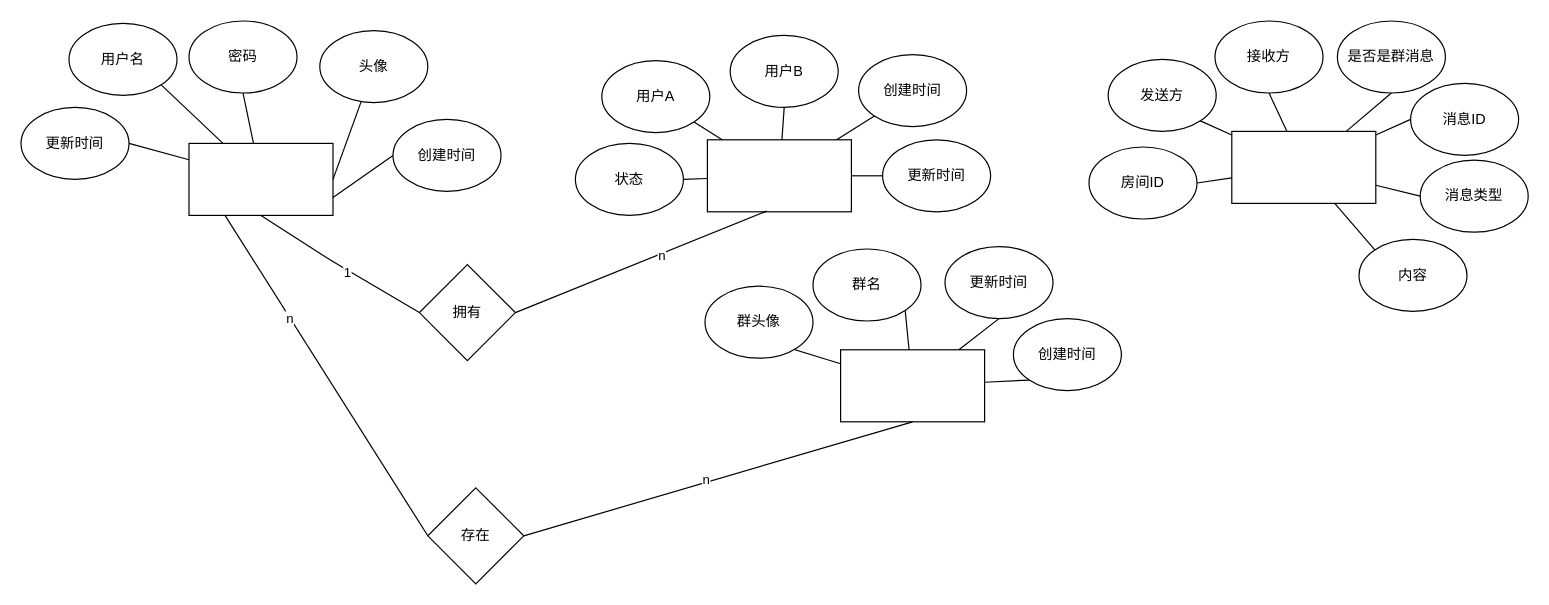
The diagram is 1549 pixels wide and 605 high, and some of its shapes have lost their labels. The shapes that lost their labels are listed below. From the top down, each one's box as (x1, y1, x2, y2) in pixels, then its label:
(188, 142, 333, 215): 用户
(706, 139, 851, 212): 朋友
(1231, 130, 1376, 203): 聊天消息
(839, 349, 985, 422): 群组
